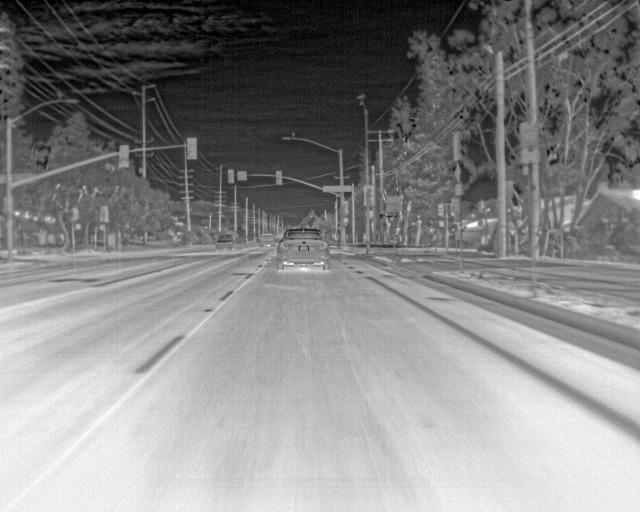car: (276, 228, 331, 272), (214, 233, 234, 252), (260, 234, 274, 247), (274, 228, 286, 240)
